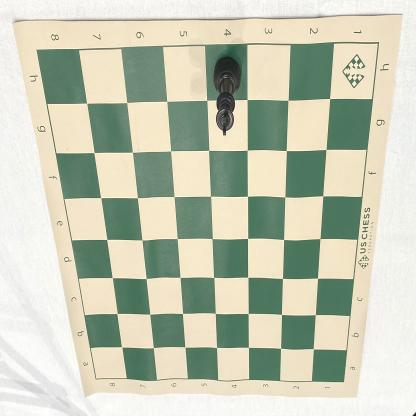black-king: (213, 55, 242, 137)
